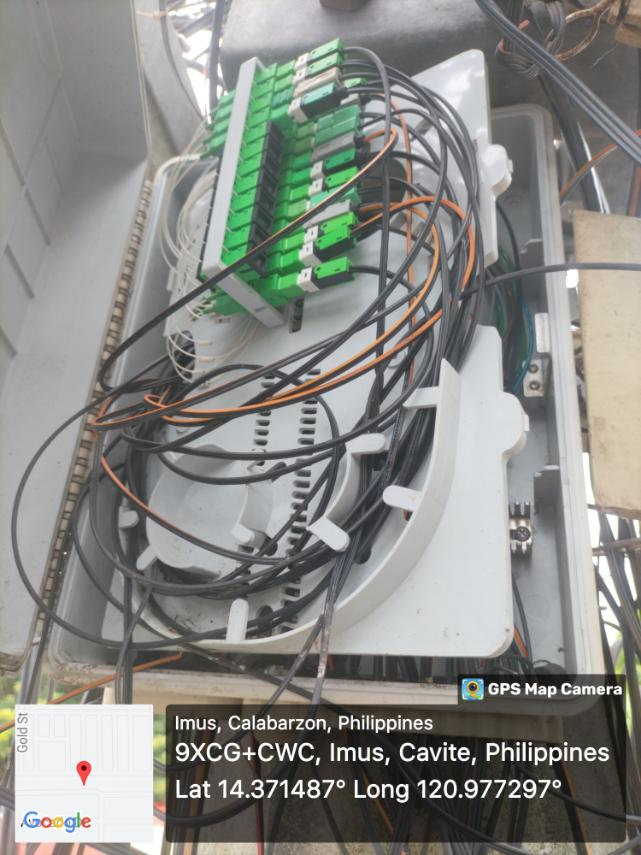occupied: (270, 79, 352, 133), (281, 225, 359, 275), (279, 256, 360, 303), (273, 64, 347, 113), (285, 211, 362, 256), (277, 36, 352, 82), (276, 51, 351, 96), (295, 127, 368, 172), (288, 182, 364, 224), (286, 197, 359, 240), (293, 146, 365, 189), (296, 115, 367, 157), (290, 165, 366, 204), (297, 89, 373, 128), (296, 101, 366, 140), (297, 73, 369, 103)
vacant: (246, 245, 266, 278), (251, 226, 271, 257), (253, 206, 273, 237), (257, 187, 276, 219), (262, 152, 282, 180), (260, 170, 278, 200), (266, 136, 283, 164), (268, 123, 283, 147)
